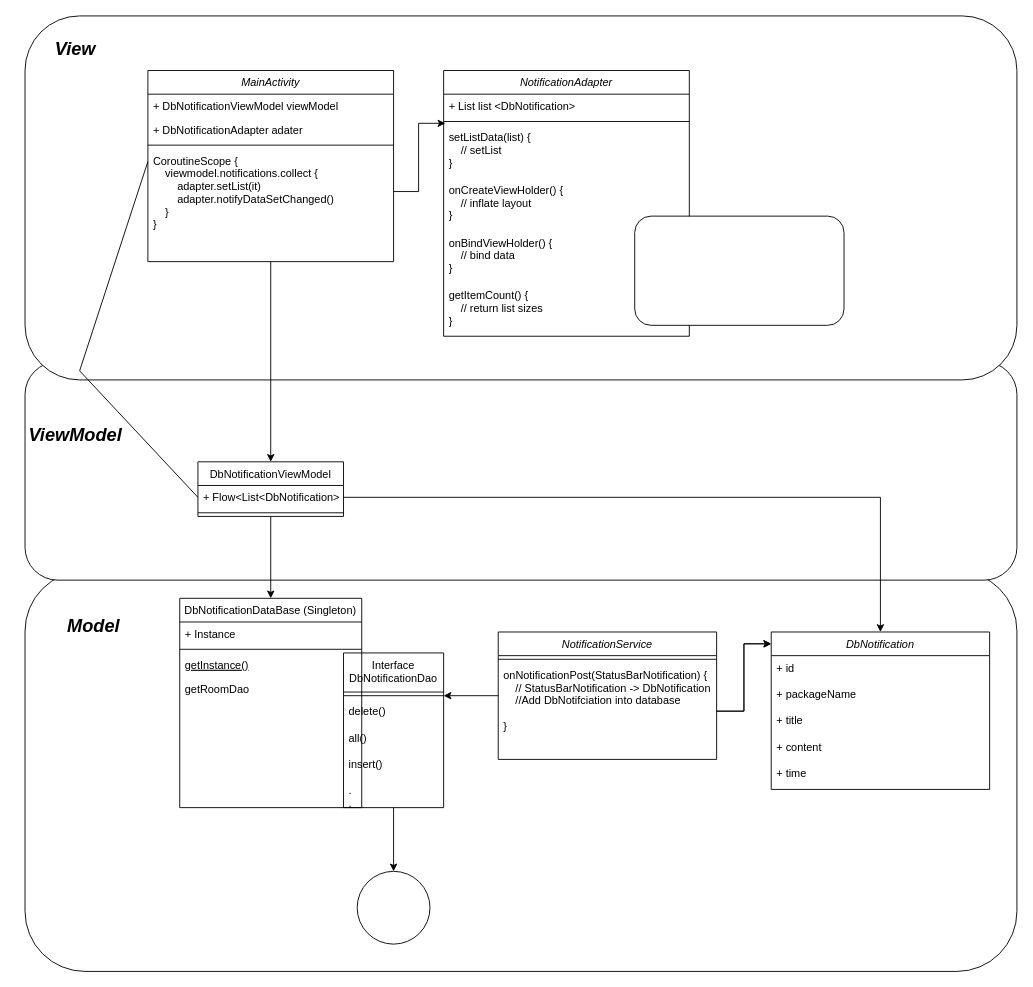
This 1033x987 diagram has some shape labels left out. Here are the shapes that lost their labels. From the top down, the centre of each, then its label:
At [739,270]: "RecyclerView".
At [393,907]: "SQLite".
